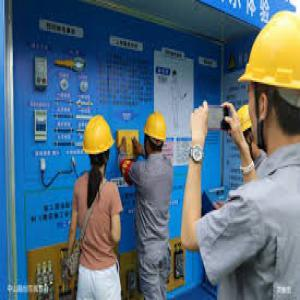yellow: (241, 11, 300, 150), (83, 109, 115, 173), (140, 111, 169, 160)
